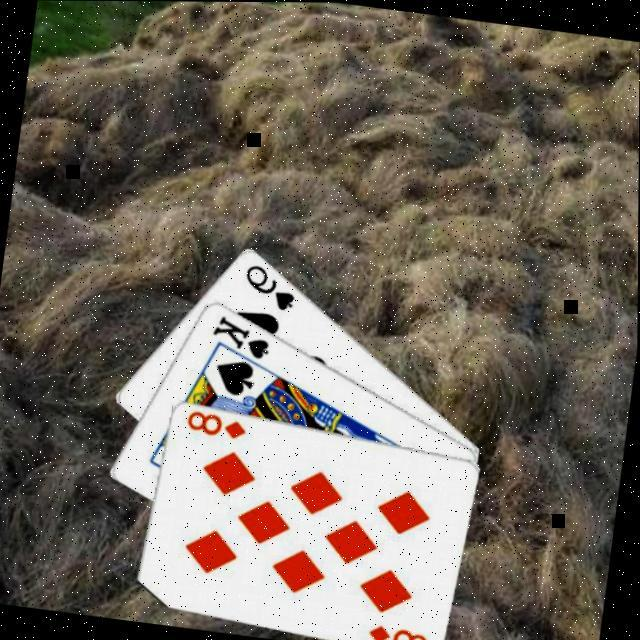8D: (185, 404, 252, 440), (366, 619, 434, 640)
9S: (240, 258, 304, 312)
KS: (208, 310, 277, 361)
